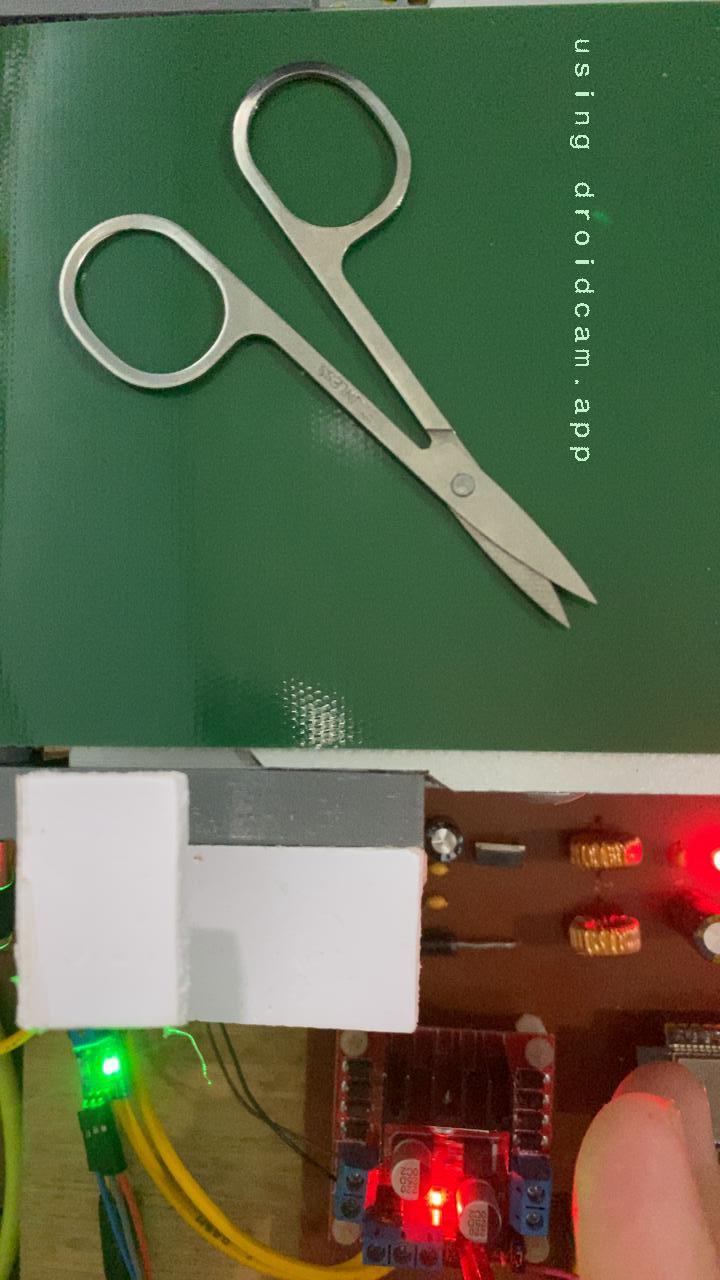scissor: (51, 62, 603, 632)
